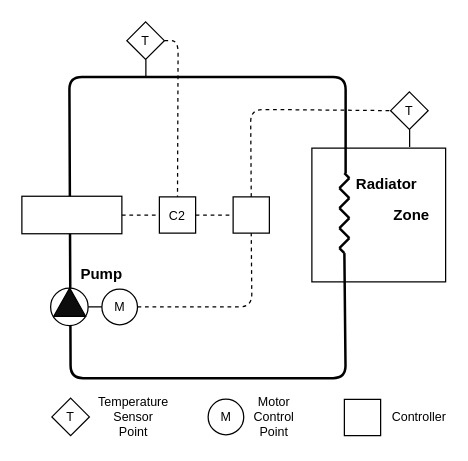
This 468x461 diagram has some shape labels left out. The centre of each missing label's shape, as x and y in pixels:
Boiler: the point at 71,214
C1: the point at 250,214
